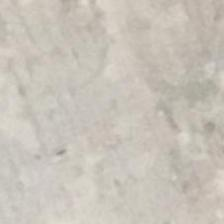Non_Crack: (23, 17, 198, 188)
